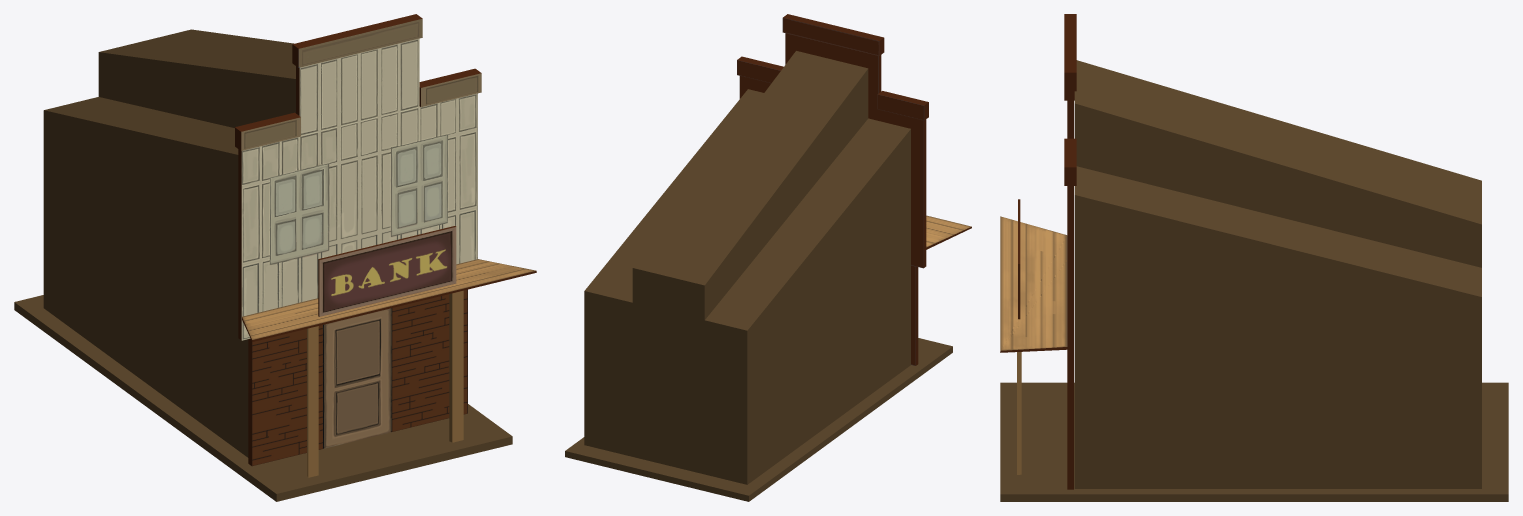
The model's file is BankWBack_003.fbx.
3 renders of one model, left to right at view 1: azimuth 30°, elevation 25°; view 2: azimuth 150°, elevation 25°; view 3: azimuth 270°, elevation 25°, orthographic. The views are drawn at different scales.
Visible parts, largest first — view 1: Bank, pCube2, BankBase, pCube1, BankOver, BankPillar; view 2: pCube2, Bank, BankBase, BankOver; view 3: pCube2, BankBase, BankOver, Bank, BankPillar.
Part boxes in pixels (x1,y1,x2,y2): Bank: [235, 14, 481, 466]; pCube2: [43, 29, 295, 457]; BankBase: [14, 295, 512, 501]; pCube1: [318, 226, 456, 316]; BankOver: [242, 259, 536, 341]; BankPillar: [307, 290, 463, 477]; pCube2: [584, 51, 910, 484]; Bank: [737, 14, 928, 365]; BankBase: [565, 338, 952, 501]; BankOver: [926, 215, 971, 249]; pCube2: [1074, 60, 1481, 488]; BankBase: [1000, 382, 1508, 501]; BankOver: [1000, 216, 1067, 352]; Bank: [1064, 14, 1076, 489]; BankPillar: [1017, 352, 1021, 474].
Size of the model in its own units: 19.79 by 27.62 by 31.61.
Materials: 6 (3 with a texture image).
